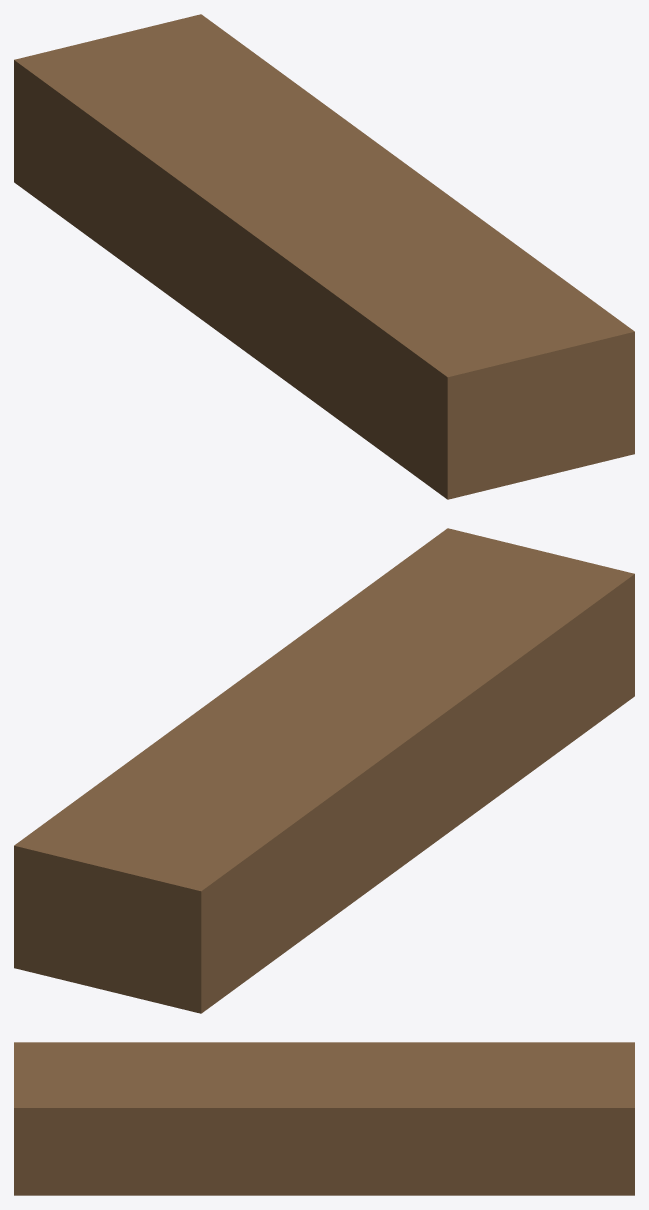
File: porch-24.glb
3 views of the same model, one above another, from view 1: azimuth 30°, elevation 25°; view 2: azimuth 150°, elevation 25°; view 3: azimuth 270°, elevation 25° (orthographic). The views are drawn at different scales.
Size of the model in its own units: 1 by 0.625 by 4.01.
